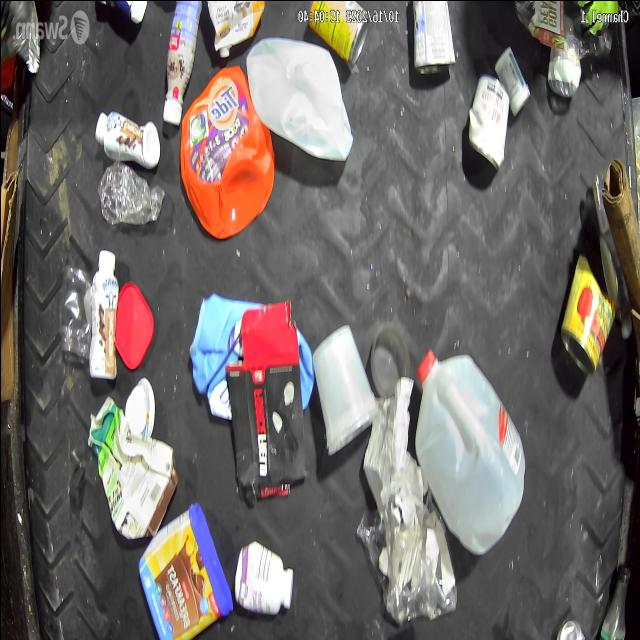can: (558, 251, 614, 373), (466, 72, 509, 170), (306, 0, 368, 66), (412, 0, 456, 75), (556, 614, 588, 640)
milk_jug: (412, 348, 526, 554), (244, 34, 354, 162), (206, 0, 266, 59)
non_white_jug: (178, 64, 276, 240), (187, 290, 313, 420), (86, 394, 179, 542), (136, 500, 232, 640)
plastic_bottle: (95, 161, 163, 227), (598, 561, 630, 640)
